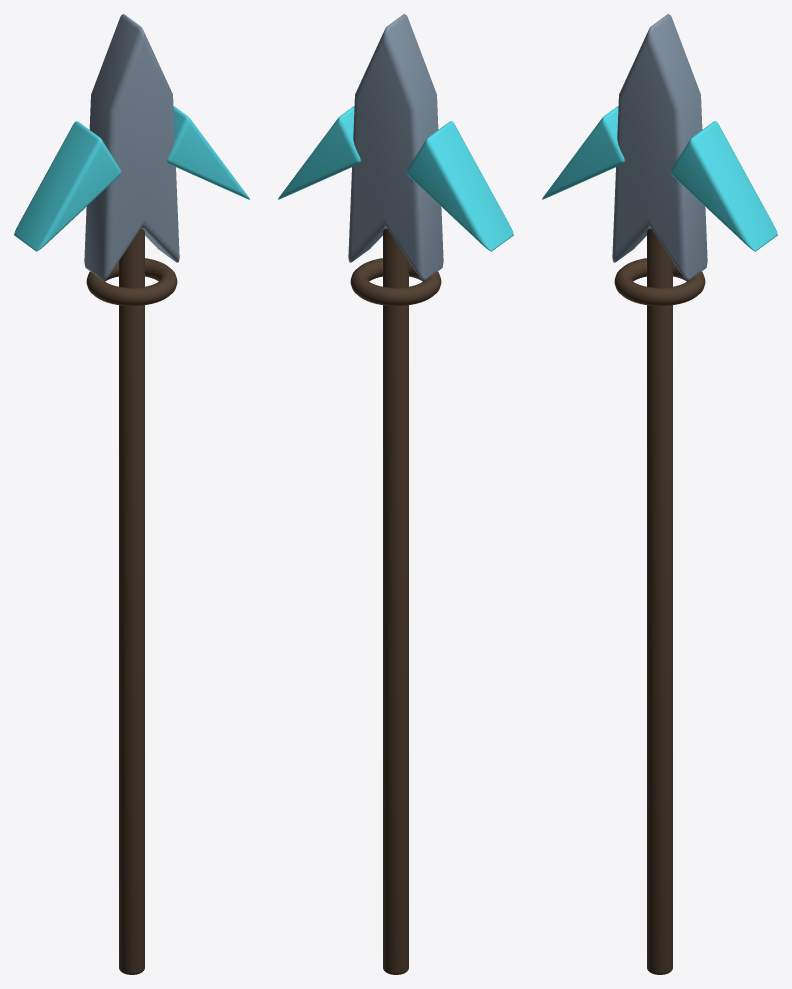
File: spear_v6.glb
The picture shows the model from 3 angles, left to right: view 1: azimuth 30°, elevation 25°; view 2: azimuth 150°, elevation 25°; view 3: azimuth 330°, elevation 25°; orthographic projection.
Visible parts, largest first — view 1: SPEAR_SHAFT_SECONDARY, HARPOON_HEAD_PRIMARY, HARPOON_BARB_ACCENT, HARPOON_BARB_ACCENT.001, HARPOON_ROPE_LOOP_SECONDARY; view 2: SPEAR_SHAFT_SECONDARY, HARPOON_HEAD_PRIMARY, HARPOON_BARB_ACCENT, HARPOON_BARB_ACCENT.001, HARPOON_ROPE_LOOP_SECONDARY; view 3: SPEAR_SHAFT_SECONDARY, HARPOON_HEAD_PRIMARY, HARPOON_BARB_ACCENT.001, HARPOON_BARB_ACCENT, HARPOON_ROPE_LOOP_SECONDARY.
Part boxes in pixels (<box>): SPEAR_SHAFT_SECONDARY: <box>119,228,144,974</box>; HARPOON_HEAD_PRIMARY: <box>84,14,179,280</box>; HARPOON_BARB_ACCENT: <box>14,121,120,251</box>; HARPOON_BARB_ACCENT.001: <box>167,106,249,199</box>; HARPOON_ROPE_LOOP_SECONDARY: <box>86,258,177,305</box>; SPEAR_SHAFT_SECONDARY: <box>383,228,408,974</box>; HARPOON_HEAD_PRIMARY: <box>348,14,443,280</box>; HARPOON_BARB_ACCENT: <box>407,121,513,251</box>; HARPOON_BARB_ACCENT.001: <box>278,106,360,199</box>; HARPOON_ROPE_LOOP_SECONDARY: <box>350,258,441,305</box>; SPEAR_SHAFT_SECONDARY: <box>647,228,672,974</box>; HARPOON_HEAD_PRIMARY: <box>612,14,707,280</box>; HARPOON_BARB_ACCENT.001: <box>671,121,777,251</box>; HARPOON_BARB_ACCENT: <box>542,106,624,199</box>; HARPOON_ROPE_LOOP_SECONDARY: <box>614,258,705,305</box>.
Size of the model in its own units: 1.22 by 5.19 by 0.45.
